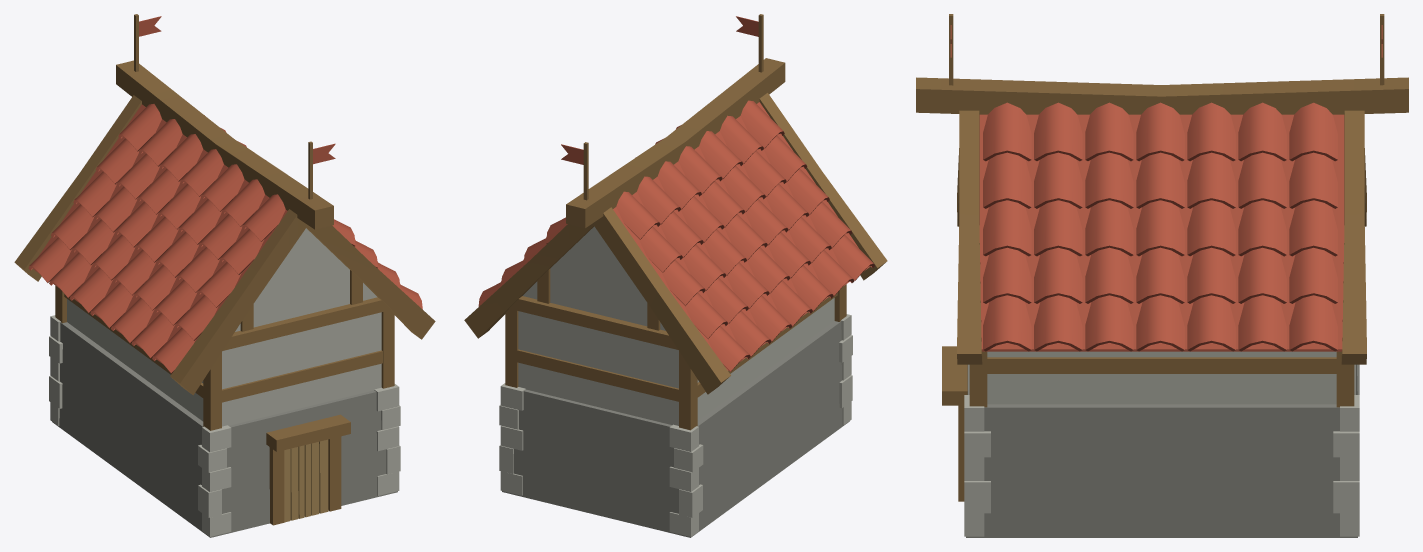
File: House-vZ1CLbWmSx.glb
The picture shows the model from 3 angles, left to right: view 1: azimuth 30°, elevation 25°; view 2: azimuth 150°, elevation 25°; view 3: azimuth 270°, elevation 25°; orthographic projection. The views are drawn at different scales.
Visible parts, largest first — view 1: House-vZ1CLbWmSx; view 2: House-vZ1CLbWmSx; view 3: House-vZ1CLbWmSx.
Part boxes in pixels (left/top/right/bottom): House-vZ1CLbWmSx: left=14, top=14, right=435, bottom=537; House-vZ1CLbWmSx: left=464, top=14, right=887, bottom=537; House-vZ1CLbWmSx: left=916, top=14, right=1408, bottom=537.
Size of the model in its own units: 0.89 by 1.23 by 1.17.
